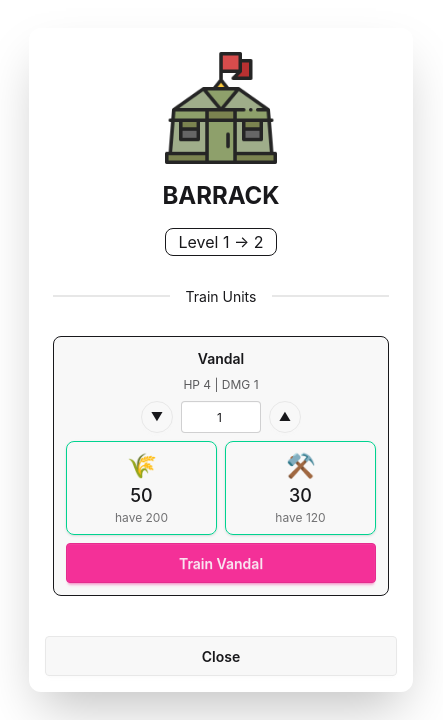
Test case: BuildingUpgradeCard — train action queue render › queue remains visible with a corrected countdown when backend clock lags client clock
Click the button with test id "train-vandal-button". click: (221, 563)
box: [66, 543, 376, 583]
Wait 100 ms
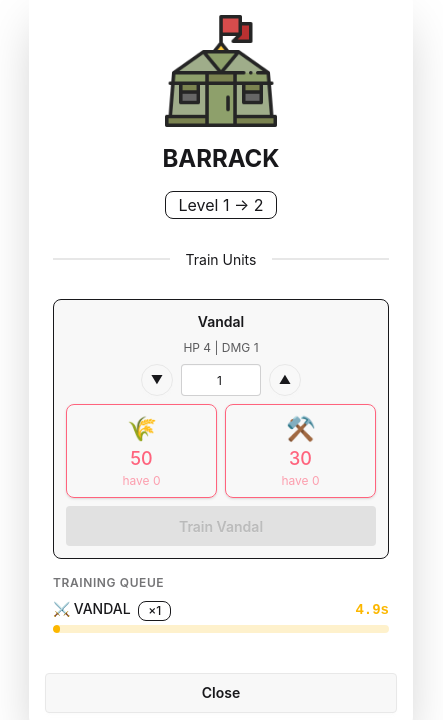
Expected: the element with test id "training-queue" is shown, [53, 575, 389, 633]
